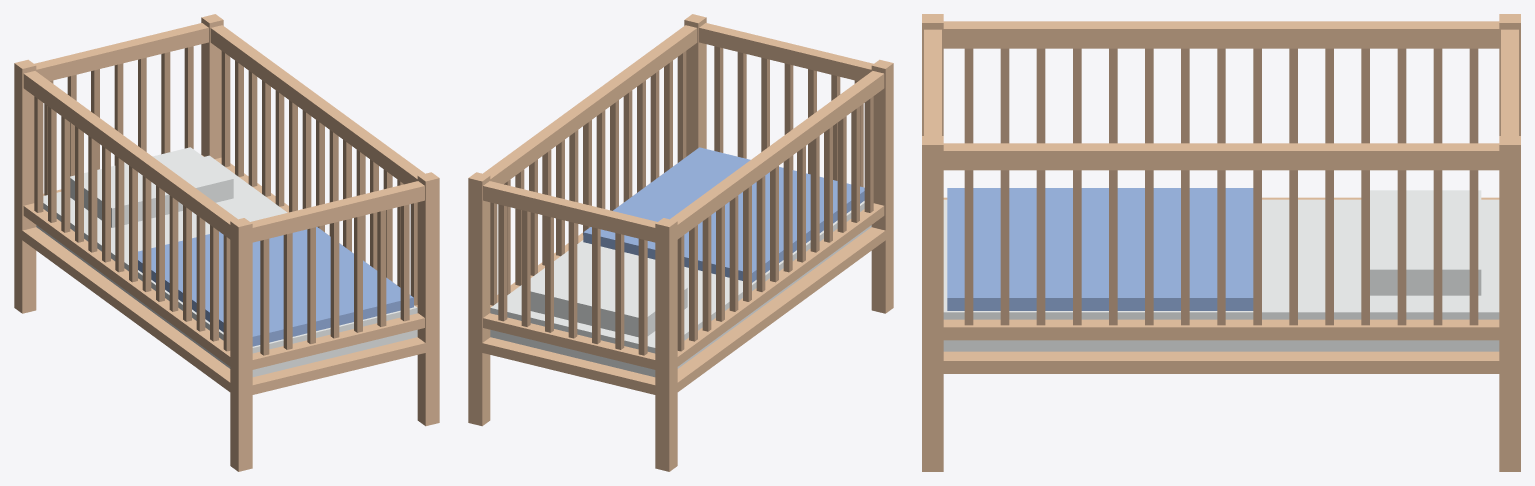
File: crib.glb
3 renders of one model, left to right at view 1: azimuth 30°, elevation 25°; view 2: azimuth 150°, elevation 25°; view 3: azimuth 270°, elevation 25°, orthographic. The views are drawn at different scales.
Visible parts, largest first — view 1: crib; view 2: crib; view 3: crib.
Part boxes in pixels (x1,y1,x2,y2): crib: (14, 14, 439, 471); crib: (468, 14, 893, 471); crib: (922, 14, 1520, 471).
Bounding box in the file's own units: 0.43 × 0.5 × 0.83.
